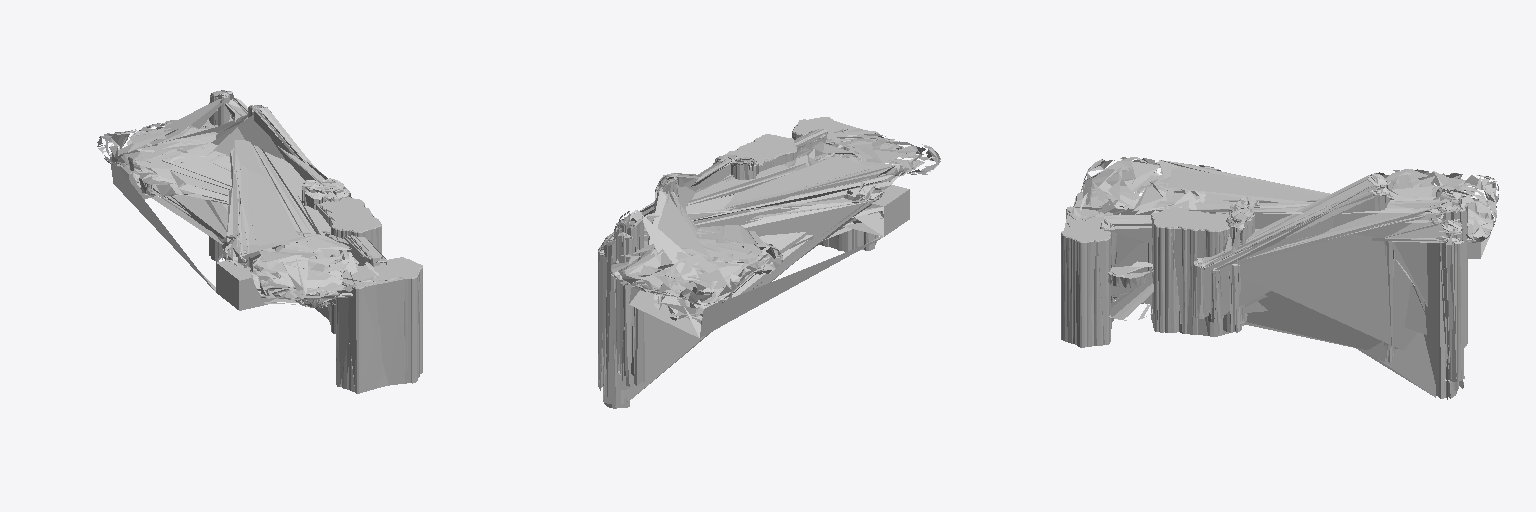
Rendered from cellQuarry_VolcanoTransition_Proxy-sharedassets3.assets-613.obj.
The picture shows the model from 3 angles: view 1: azimuth 30°, elevation 25°; view 2: azimuth 150°, elevation 25°; view 3: azimuth 270°, elevation 25°; orthographic projection.
Visible parts, largest first — view 1: cellQuarry_VolcanoTransition_Proxy_0, cellQuarry_VolcanoTransition_Proxy_3, cellQuarry_VolcanoTransition_Proxy_2; view 2: cellQuarry_VolcanoTransition_Proxy_0, cellQuarry_VolcanoTransition_Proxy_3; view 3: cellQuarry_VolcanoTransition_Proxy_0, cellQuarry_VolcanoTransition_Proxy_3.
Part boxes in pixels (x1,y1,x2,y2): cellQuarry_VolcanoTransition_Proxy_0: (97,90,422,393); cellQuarry_VolcanoTransition_Proxy_3: (315,197,422,393); cellQuarry_VolcanoTransition_Proxy_2: (336,262,405,391); cellQuarry_VolcanoTransition_Proxy_0: (598,117,940,408); cellQuarry_VolcanoTransition_Proxy_3: (726,117,878,251); cellQuarry_VolcanoTransition_Proxy_0: (1061,157,1498,399); cellQuarry_VolcanoTransition_Proxy_3: (1061,204,1241,347).
Bounding box in the file's own units: 64.22 × 77.65 × 148.